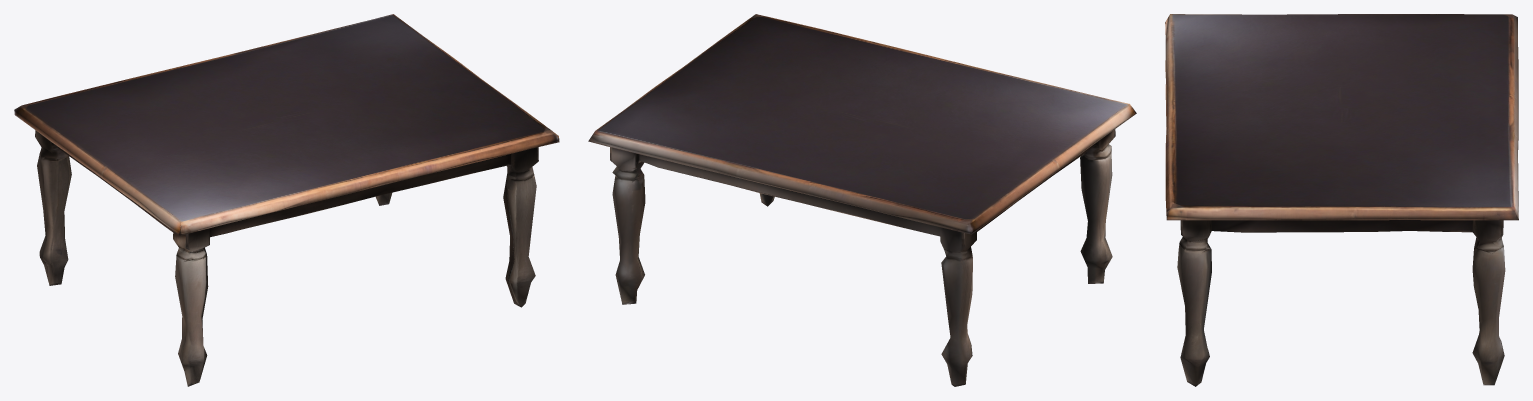
3 views of the same model, side by side, from view 1: azimuth 30°, elevation 25°; view 2: azimuth 150°, elevation 25°; view 3: azimuth 270°, elevation 25° (orthographic). The views are drawn at different scales.
Parts seen in each view (by area): view 1: Mesh1.0; view 2: Mesh1.0; view 3: Mesh1.0.
Boxes of the visible parts, bbox=[...] form: Mesh1.0: bbox=[14, 14, 559, 386]; Mesh1.0: bbox=[588, 14, 1136, 386]; Mesh1.0: bbox=[1165, 14, 1518, 386].
Bounding box in the file's own units: 202 × 89.08 × 152.
1 material, 1 textured.
